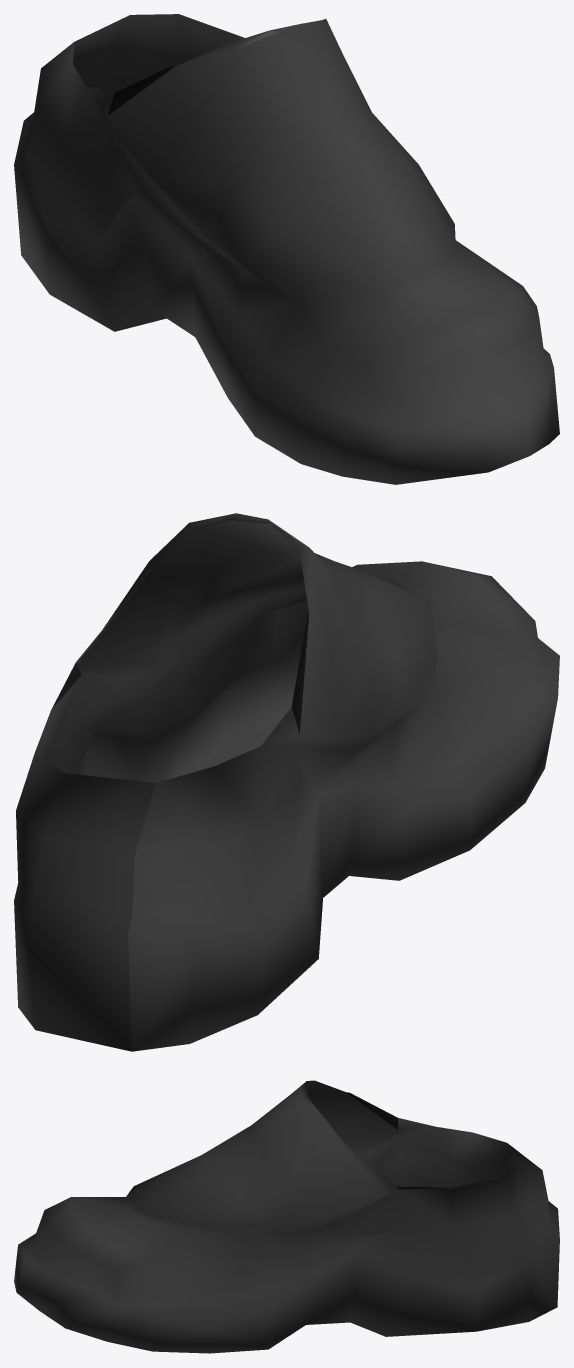
File: footleft.fbx
3 views of the same model, one above another, from view 1: azimuth 30°, elevation 25°; view 2: azimuth 150°, elevation 25°; view 3: azimuth 270°, elevation 25° (orthographic). The views are drawn at different scales.
Parts seen in each view (by area): view 1: footleft; view 2: footleft; view 3: footleft.
Part boxes in pixels (box(x1,y1,x2,y2)): footleft: box(14, 14, 559, 484); footleft: box(14, 513, 559, 1051); footleft: box(14, 1080, 559, 1353).
Size of the model in its own units: 8.06 by 9.47 by 21.28.
